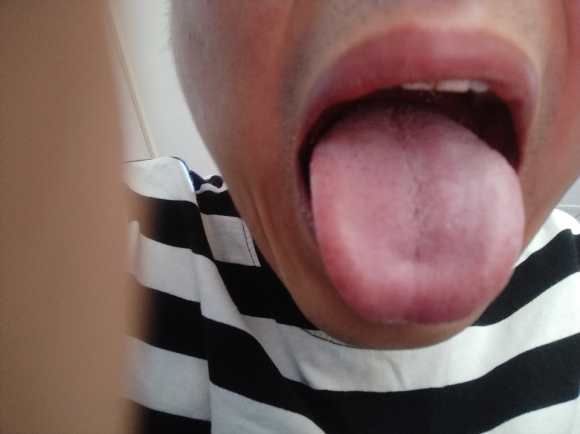pangdashe: (309, 101, 525, 324)
